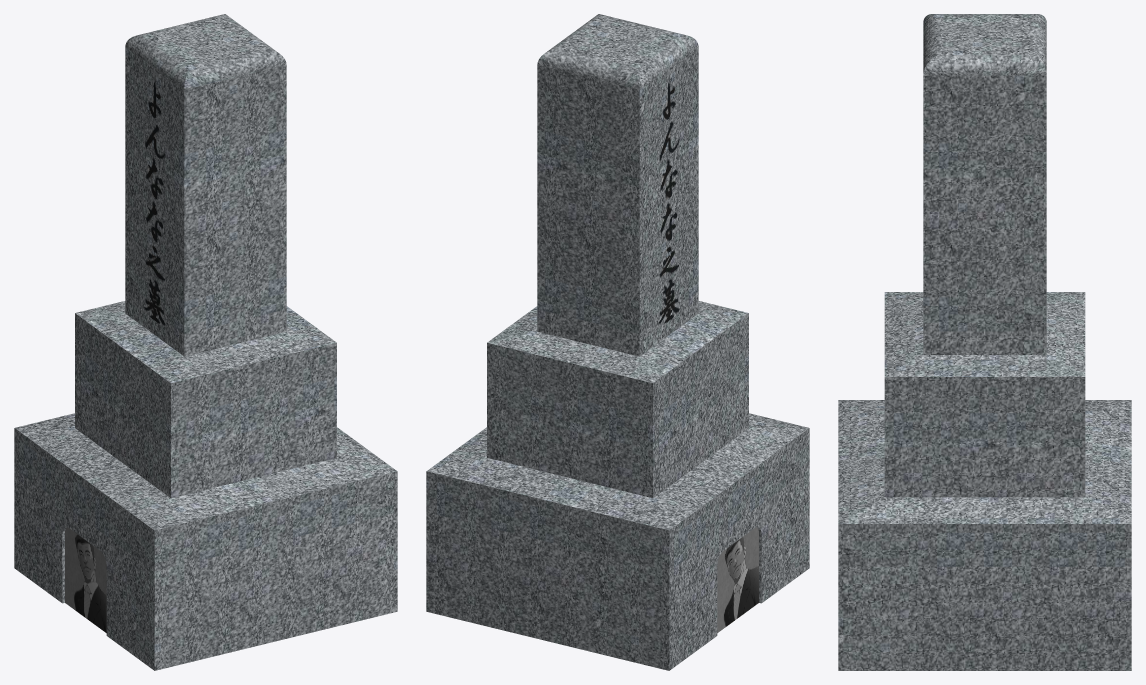
The picture shows the model from 3 angles, left to right: view 1: azimuth 30°, elevation 25°; view 2: azimuth 150°, elevation 25°; view 3: azimuth 270°, elevation 25°; orthographic projection. The views are drawn at different scales.
Visible parts, largest first — view 1: Body.Bot, Body.Top, Body.Mid, BodyHole.Gate; view 2: Body.Bot, Body.Top, Body.Mid, BodyHole.Gate; view 3: Body.Bot, Body.Top, Body.Mid.
Boxes of the visible parts, x1,y1,x2,y2 form: Body.Bot: (14,413,397,670); Body.Top: (125,14,286,356); Body.Mid: (75,301,336,498); BodyHole.Gate: (65,527,106,632); Body.Bot: (426,413,809,670); Body.Top: (537,14,698,356); Body.Mid: (487,301,748,498); BodyHole.Gate: (717,527,758,632); Body.Bot: (838,400,1131,670); Body.Top: (923,14,1046,354); Body.Mid: (884,292,1085,497).
Size of the model in its own units: 0.5757 by 1.24 by 0.5757.
1 material, 1 textured.
